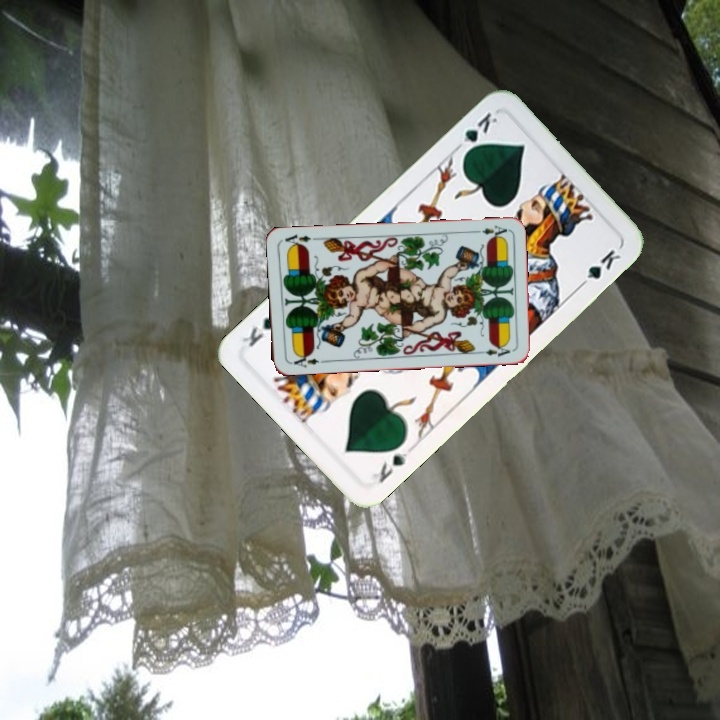EA: (287, 350, 327, 370), (469, 221, 510, 240)
GK: (451, 108, 500, 159), (366, 448, 411, 486)
